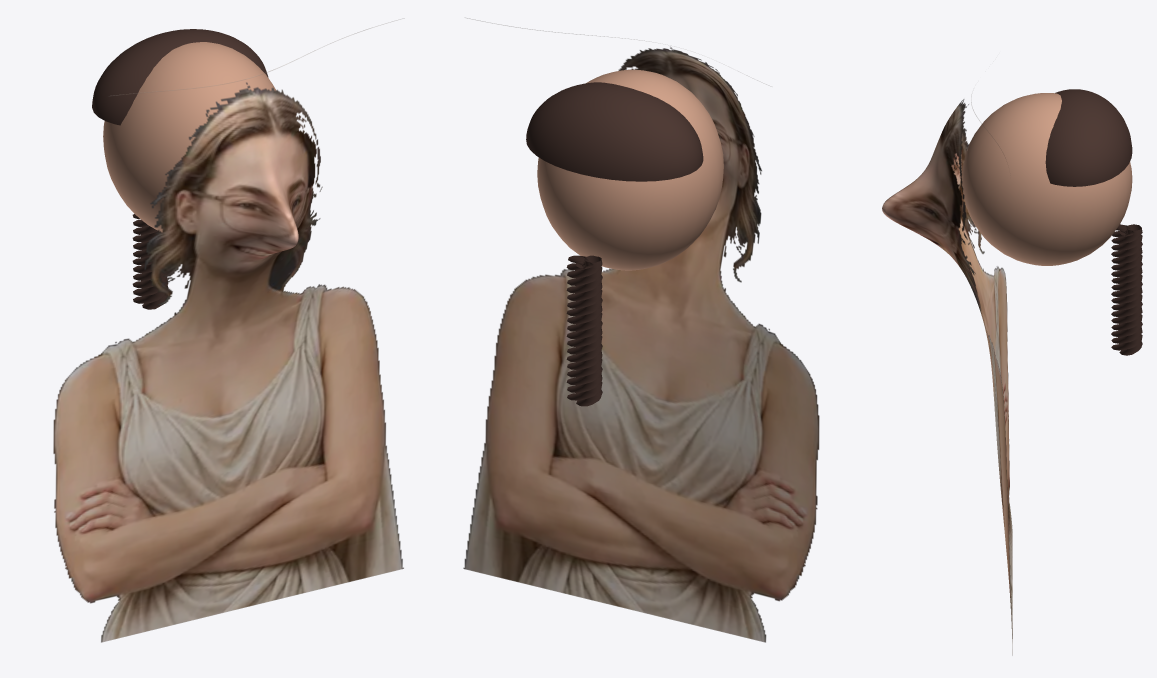
The model's file is stefanos-painting-06.glb.
3 views of the same model, side by side, from view 1: azimuth 30°, elevation 25°; view 2: azimuth 150°, elevation 25°; view 3: azimuth 270°, elevation 25° (orthographic). The views are drawn at different scales.
Parts seen in each view (by area): view 1: body, face-volume, hair-cap, hair-braid; view 2: body, face-volume, hair-cap, hair-braid; view 3: face-volume, body, hair-cap, hair-braid.
Boxes of the visible parts, x1,y1,x2,y2 form: body: (53,18,403,642); face-volume: (103,42,276,232); hair-cap: (92,29,268,125); hair-braid: (132,214,168,309); body: (463,18,819,642); face-volume: (537,69,723,270); hair-cap: (526,82,703,181); hair-braid: (566,255,602,406); face-volume: (962,93,1132,265); body: (882,99,1012,655); hair-cap: (1045,89,1132,186); hair-braid: (1111,224,1142,355).
Size of the model in its own units: 0.7372 by 0.96 by 0.4741.
3 materials, 3 textured.
